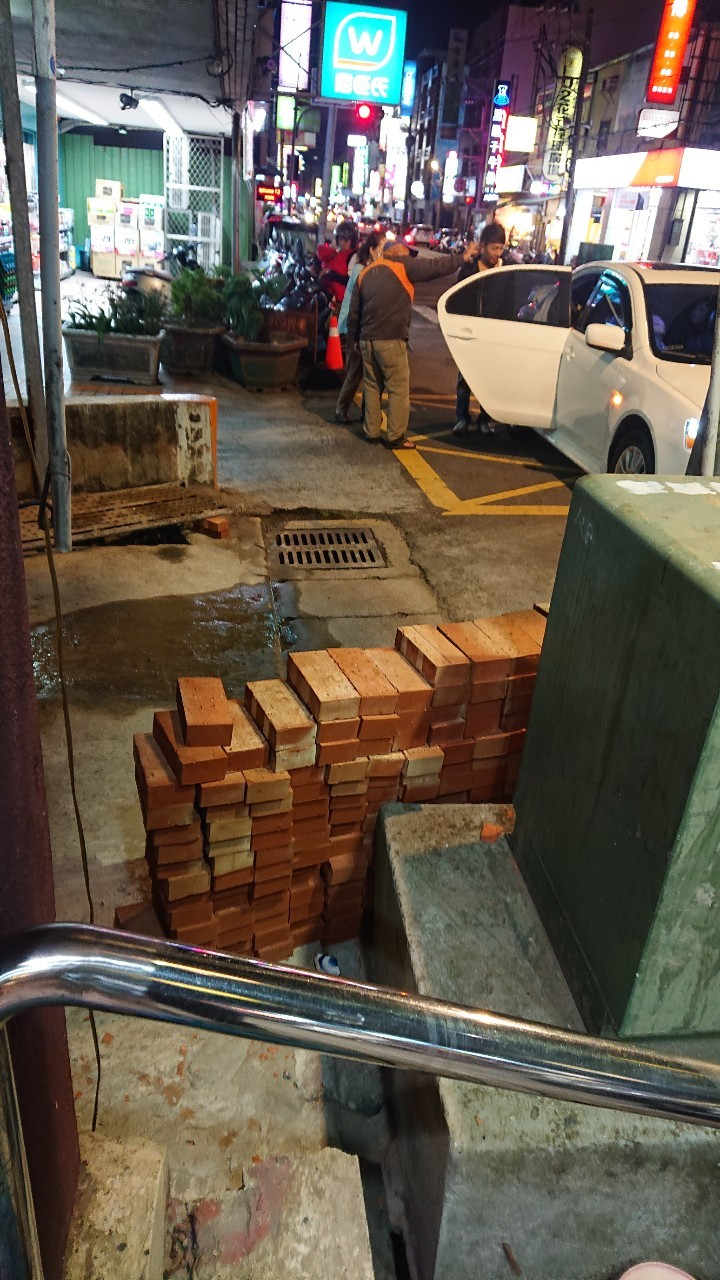people: (369, 243, 412, 451), (469, 225, 507, 441), (344, 243, 373, 423), (324, 225, 356, 310)
